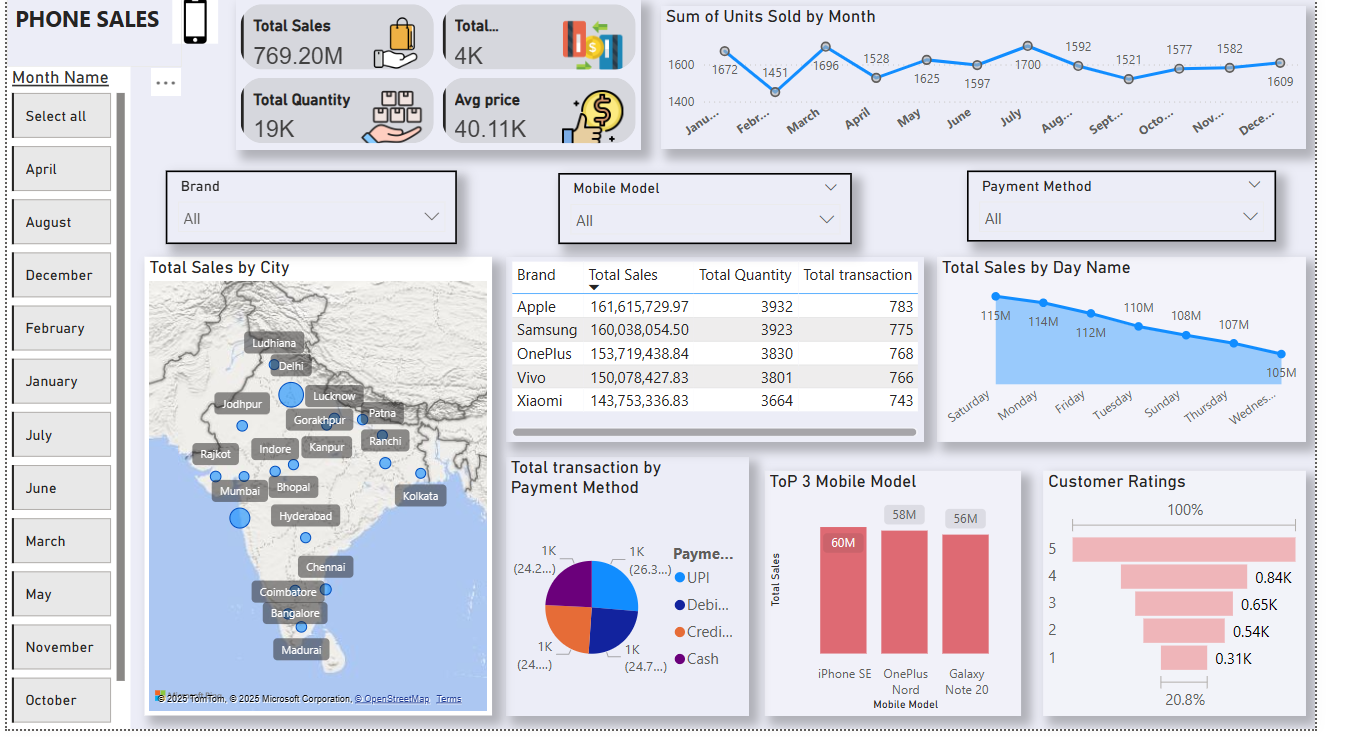

This screenshot's page, from the dashboard's own definition file:
{"tool":"powerbi","page":{"name":"Satish project","canvas":[1280,720],"ordinal":0},"visuals":[{"type":"image","box":[155.1,0,57.6,54.9],"z":0},{"type":"textbox","box":[0,0,171.5,72.7],"z":1000},{"type":"advancedSlicerVisual","fields":{"Values":["Sheet1.Month Name"]},"box":[0,72.7,120.8,647.7],"z":2000},{"type":"cardVisual","fields":{"Data":["Sheet1.Total Sales","Sheet1.Total transaction","Sheet1.Total Quantity","Sheet1.Avg Sales"]},"box":[223.2,6,396.9,147.2],"z":3000},{"type":"map","fields":{"Category":["Sheet1.City"],"Size":["Sheet1.Total Sales"]},"box":[133.9,258.2,340.2,448.8],"z":4000},{"type":"lineChart","fields":{"Category":["Sheet1.Date.Variation.Date Hierarchy.Month","Sheet1.Date.Variation.Date Hierarchy.Day"],"Y":["Sheet1.Units Sold"]},"box":[639.4,12.1,631,141.2],"z":5000},{"type":"columnChart","title":"ToP 3 Mobile Model","fields":{"Category":["Sheet1.Mobile Model"],"Y":["Sheet1.Total Sales"]},"box":[740.8,466.9,250.9,240.1],"z":6000},{"type":"pieChart","fields":{"Category":["Sheet1.Payment Method"],"Y":["Sheet1.Total transaction"]},"box":[487.4,453.6,237.7,253.4],"z":7000},{"type":"funnel","title":"Customer Ratings","fields":{"Category":["Sheet1.Customer Ratings"],"Y":["Sheet1.Customer Ratings"]},"box":[1013.4,466.9,257,240.1],"z":8000},{"type":"areaChart","fields":{"Y":["Sheet1.Total Sales"],"Category":["Sheet1.Day Name"]},"box":[909.8,258,360.7,181],"z":9000},{"type":"tableEx","fields":{"Values":["Sheet1.Brand","Sheet1.Total Sales","Sheet1.Total Quantity","Sheet1.Total transaction"]},"box":[487.9,258,408.4,181],"z":10000},{"type":"slicer","fields":{"Values":["Sheet1.Brand"]},"box":[155.3,173.6,284.9,72.1],"z":11000},{"type":"slicer","fields":{"Values":["Sheet1.Mobile Model"]},"box":[539.3,176.1,287.4,69.7],"z":12000},{"type":"slicer","fields":{"Values":["Sheet1.Payment Method"]},"box":[939.1,173.6,302,69.7],"z":13000}]}

Visuals, with their boxes in screenshot pixels (x1, y1, x2, y2), scaled from the page's 1280x720 canvas onto the 1349x737 screenshot:
image: <bbox>163, 0, 224, 56</bbox>
textbox: <bbox>0, 0, 181, 74</bbox>
advancedSlicerVisual - Sheet1.Month Name: <bbox>0, 74, 127, 736</bbox>
cardVisual - Sheet1.Total Sales x Sheet1.Total transaction: <bbox>235, 6, 654, 157</bbox>
map - Sheet1.City x Sheet1.Total Sales: <bbox>141, 264, 500, 724</bbox>
lineChart - Sheet1.Date.Variation.Date Hierarchy.Month x Sheet1.Date.Variation.Date Hierarchy.Day: <bbox>674, 12, 1339, 157</bbox>
"ToP 3 Mobile Model" columnChart: <bbox>781, 478, 1045, 724</bbox>
pieChart - Sheet1.Payment Method x Sheet1.Total transaction: <bbox>514, 464, 764, 724</bbox>
"Customer Ratings" funnel: <bbox>1068, 478, 1339, 724</bbox>
areaChart - Sheet1.Total Sales x Sheet1.Day Name: <bbox>959, 264, 1339, 449</bbox>
tableEx - Sheet1.Brand x Sheet1.Total Sales: <bbox>514, 264, 945, 449</bbox>
slicer - Sheet1.Brand: <bbox>164, 178, 464, 252</bbox>
slicer - Sheet1.Mobile Model: <bbox>568, 180, 871, 252</bbox>
slicer - Sheet1.Payment Method: <bbox>990, 178, 1308, 249</bbox>
